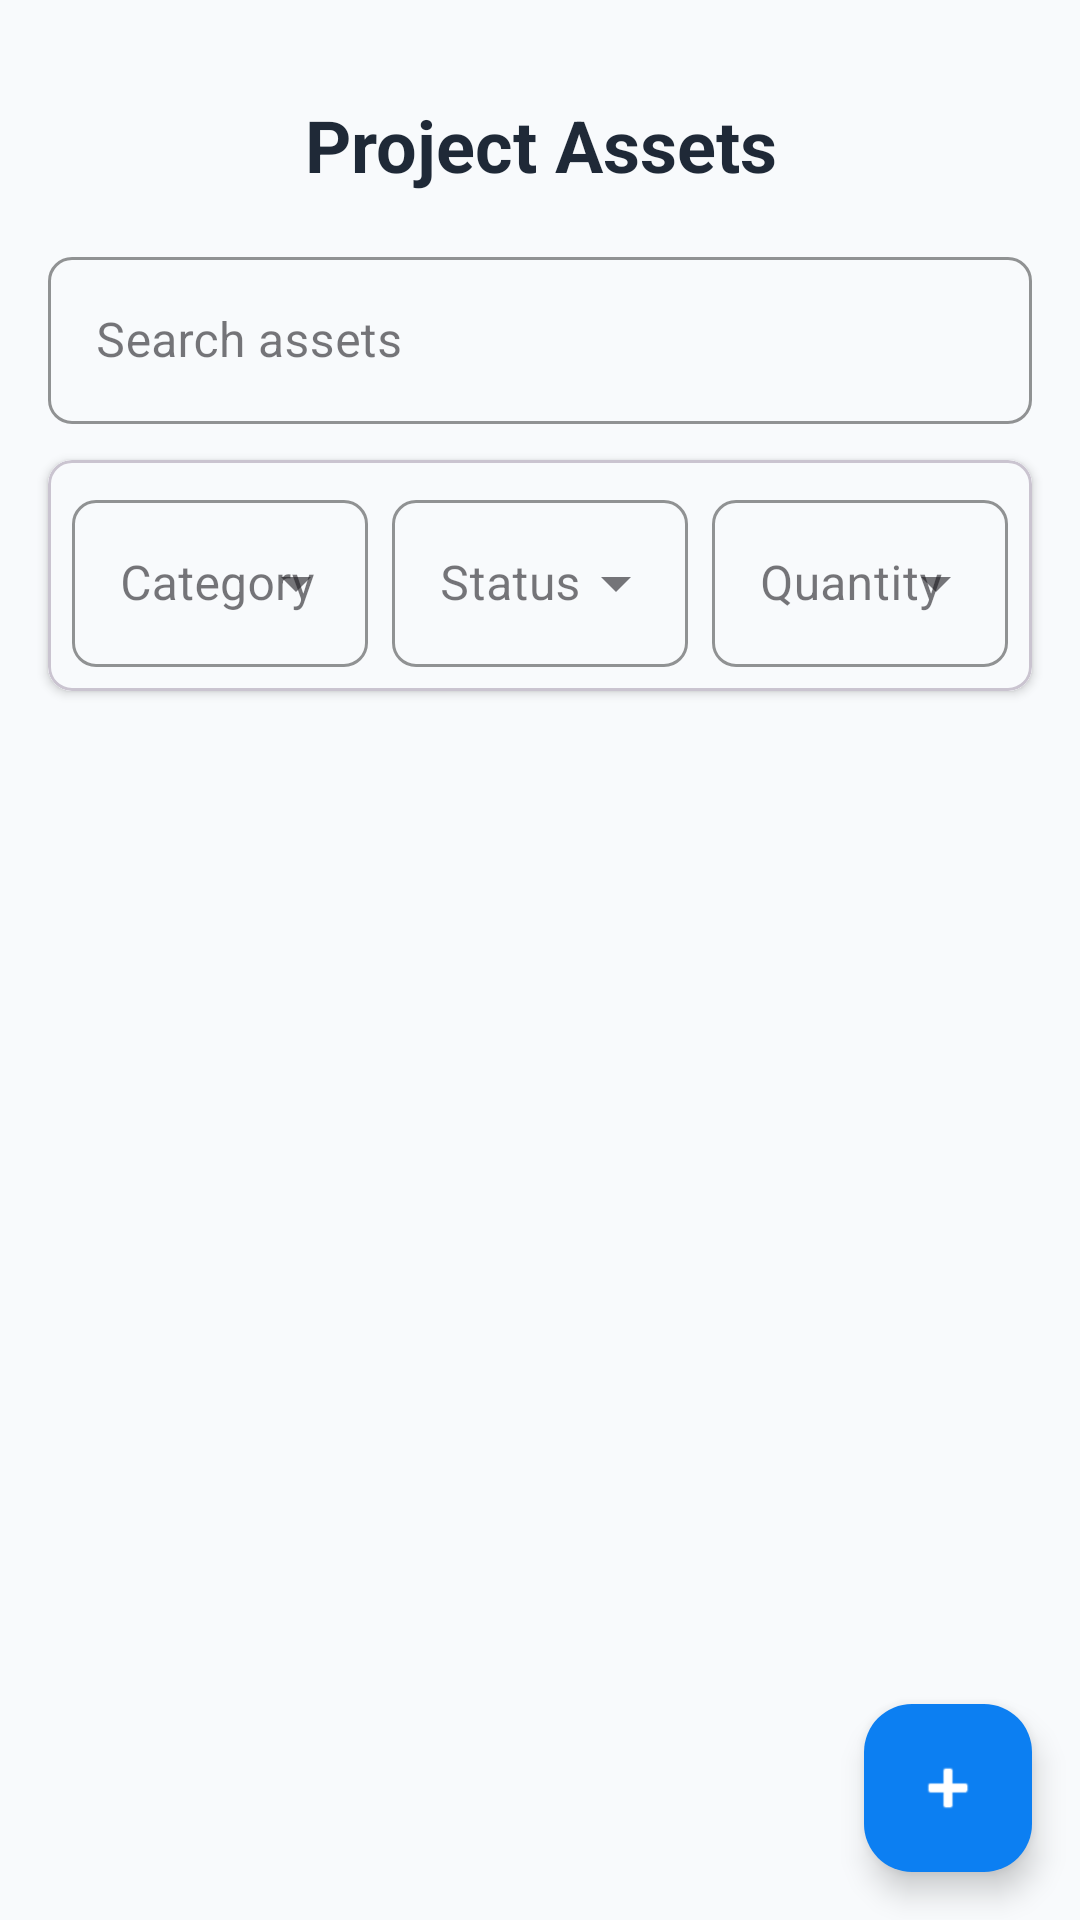

Screen size 1080*1920. Icon name, then its center in pixels as (x,y):
Add Asset: (948,1788)
